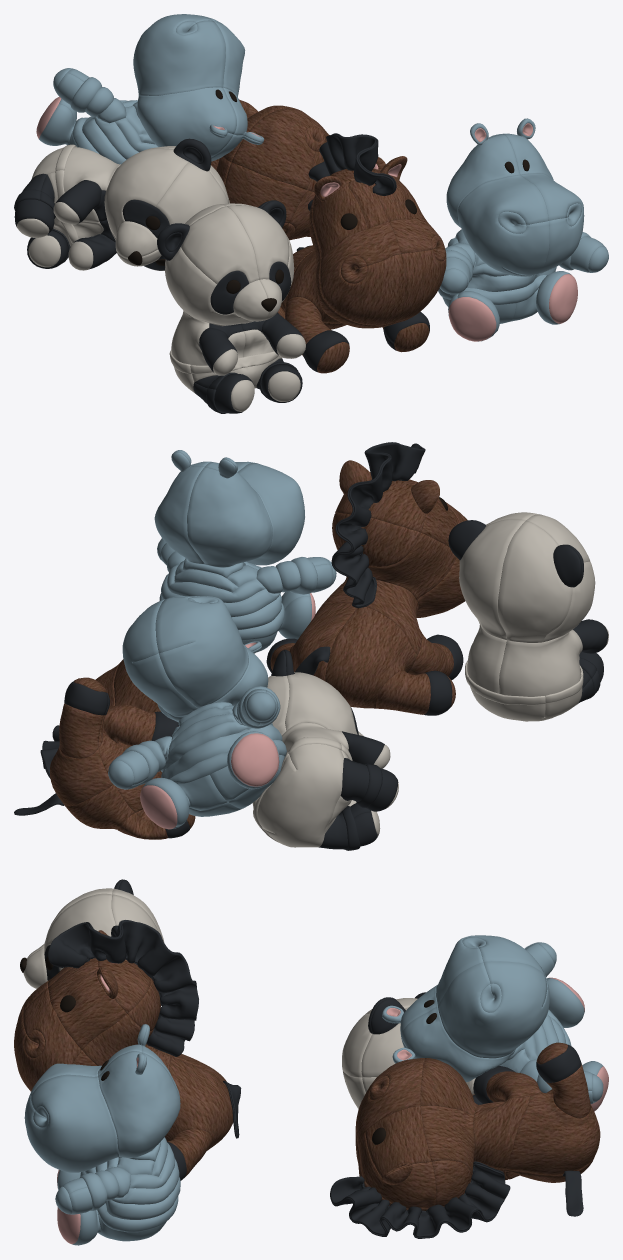
The model's file is soft-toys-2.glb.
3 renders of one model, top to bottom at view 1: azimuth 30°, elevation 25°; view 2: azimuth 150°, elevation 25°; view 3: azimuth 270°, elevation 25°, orthographic. The views are drawn at different scales.
Parts seen in each view (by area): view 1: Soft toys collection; view 2: Soft toys collection; view 3: Soft toys collection.
Part boxes in pixels (x1,y1,x2,y2): Soft toys collection: (14, 14, 608, 413); Soft toys collection: (14, 442, 608, 850); Soft toys collection: (14, 879, 608, 1245).
Bounding box in the file's own units: 2.66 × 1.31 × 3.1.
Materials: 6 (1 with a texture image).
